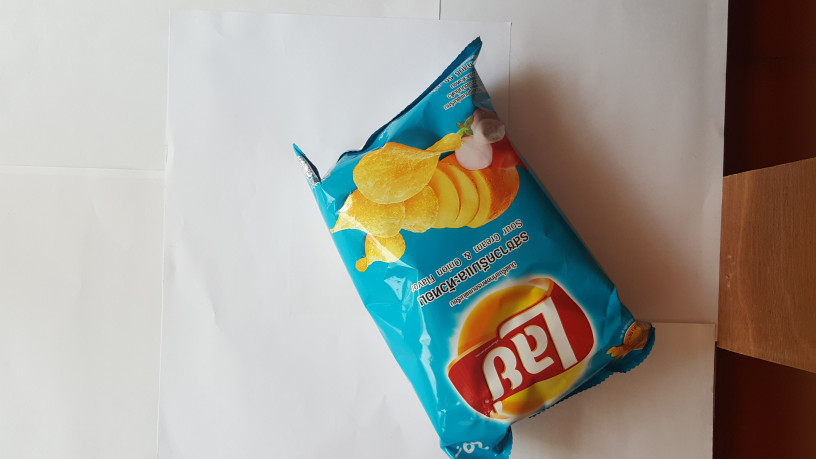lays-onion: (297, 34, 654, 459)
